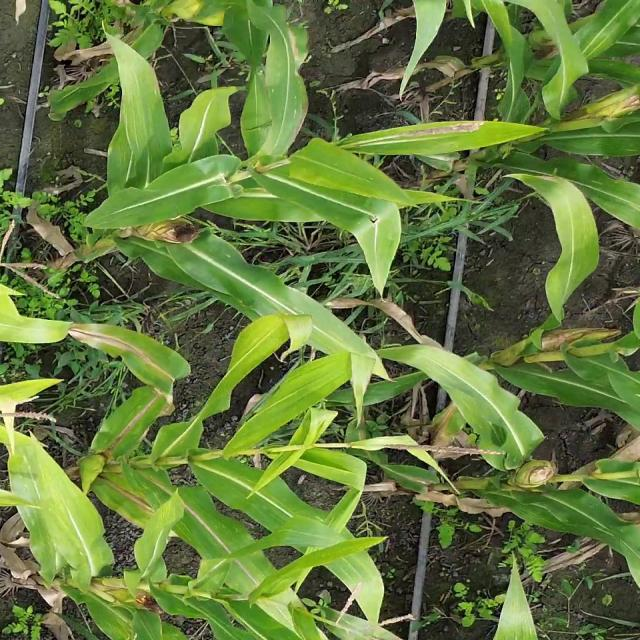gray-leaf-spot: (443, 384, 538, 466), (518, 504, 636, 557), (155, 492, 251, 556), (90, 88, 152, 185)
northern-leaf-blight: (68, 324, 188, 399), (80, 419, 159, 522)
southern-leaf-blight: (268, 74, 322, 150)
